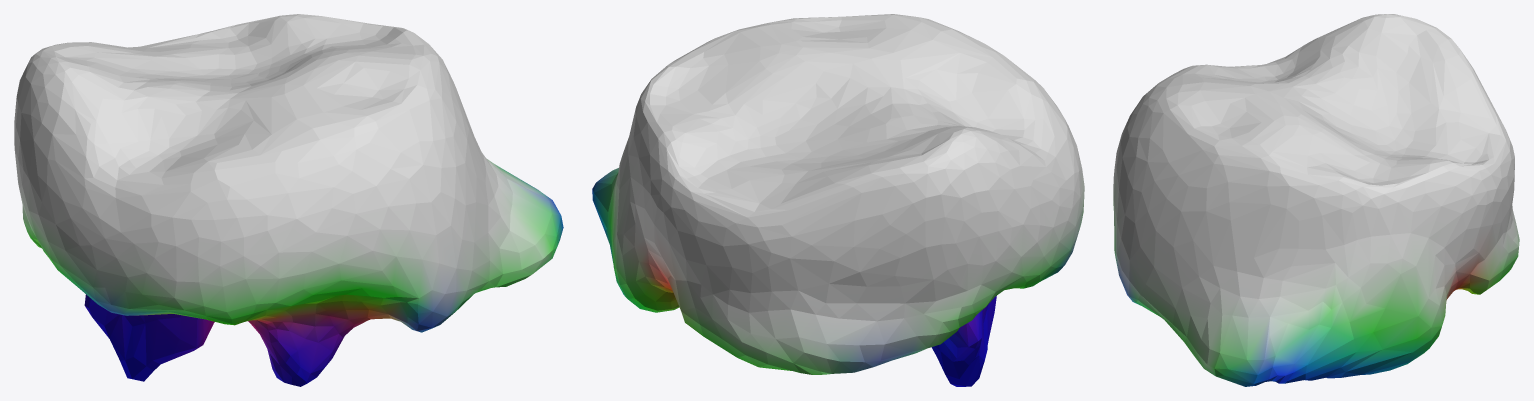
Rendered from jc isle.fbx.
3 renders of one model, left to right at view 1: azimuth 30°, elevation 25°; view 2: azimuth 150°, elevation 25°; view 3: azimuth 270°, elevation 25°, orthographic. The views are drawn at different scales.
Parts seen in each view (by area): view 1: Sphere; view 2: Sphere; view 3: Sphere.
Part boxes in pixels (box(x1,y1,x2,y2)): Sphere: box(14, 14, 563, 386); Sphere: box(592, 14, 1084, 386); Sphere: box(1113, 14, 1519, 386).
Bounding box in the file's own units: 249 × 147 × 208.
